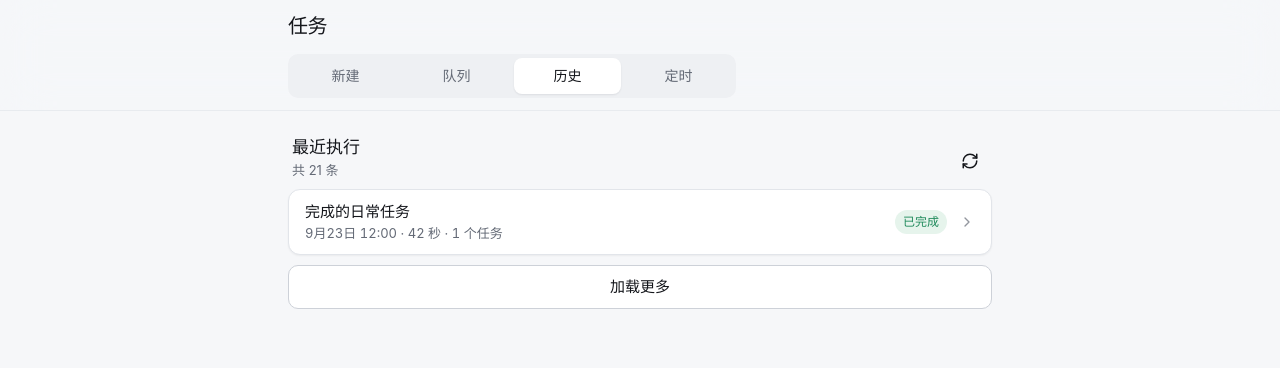
task history › loads more pages with page, size and total and stops at the end (T9)
Expected: the link "完成的日常任务 9月23日 12:00 · 42 秒 · 1 个任务 已完成" is shown, [289,190,991,254]
Click the button "加载更多" at (640, 287), box [288,265,992,309]
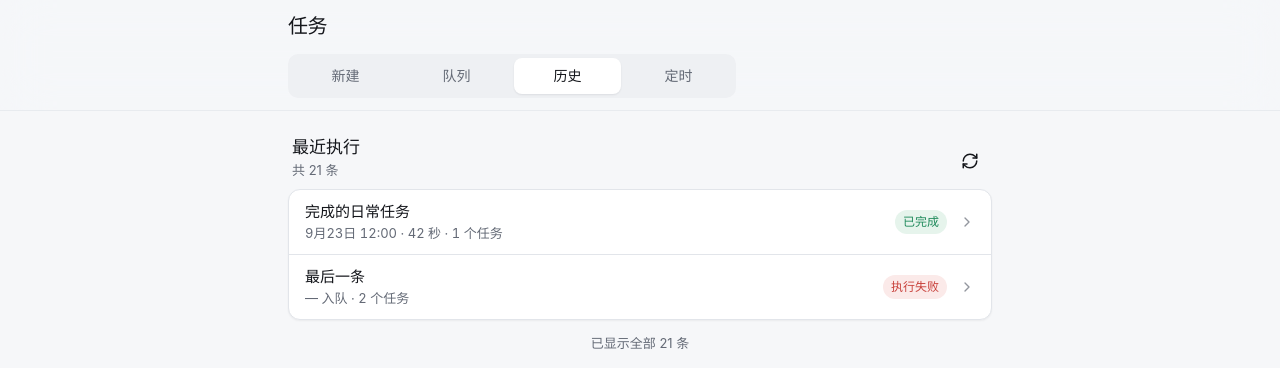
Expected: the link "最后一条 — 入队 · 2 个任务 执行失败" is shown, [289,255,991,319]
Expected: the button "加载更多" is gone
Expected: the text "已显示全部 21 条" is shown, [591,335,689,351]
